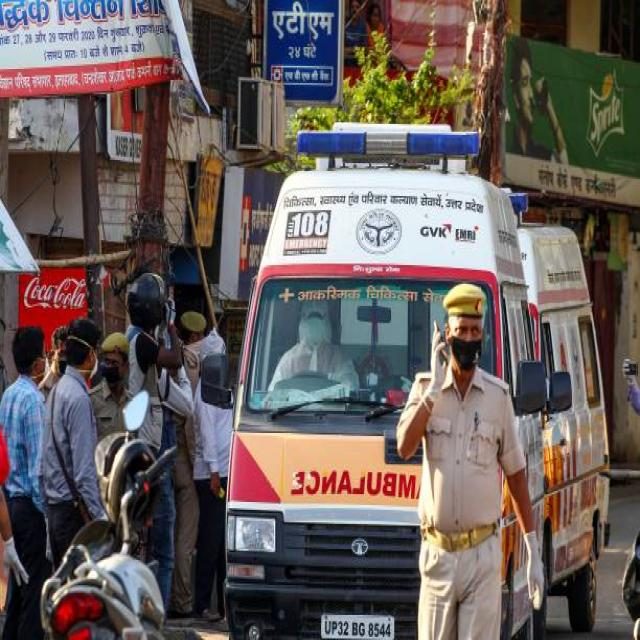ambulance: (223, 121, 546, 640)
